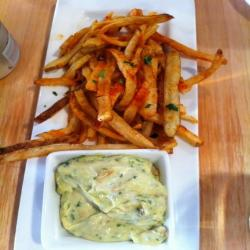fries: (56, 15, 190, 152)
